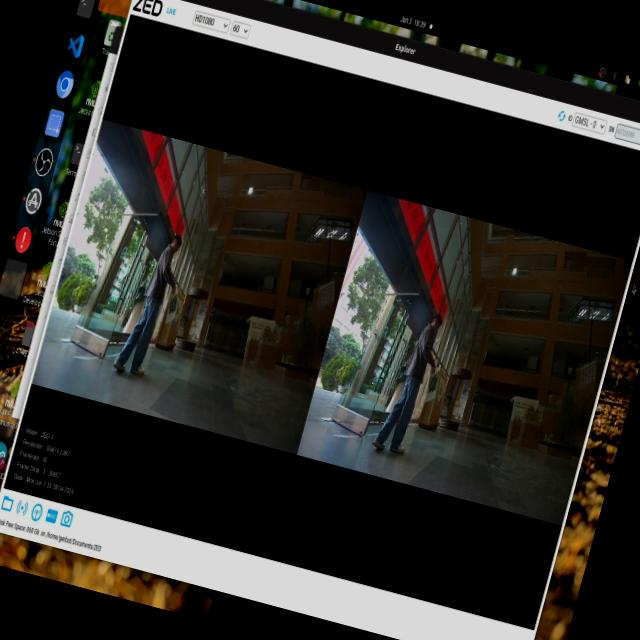green: (162, 291, 182, 322), (428, 369, 436, 392)
